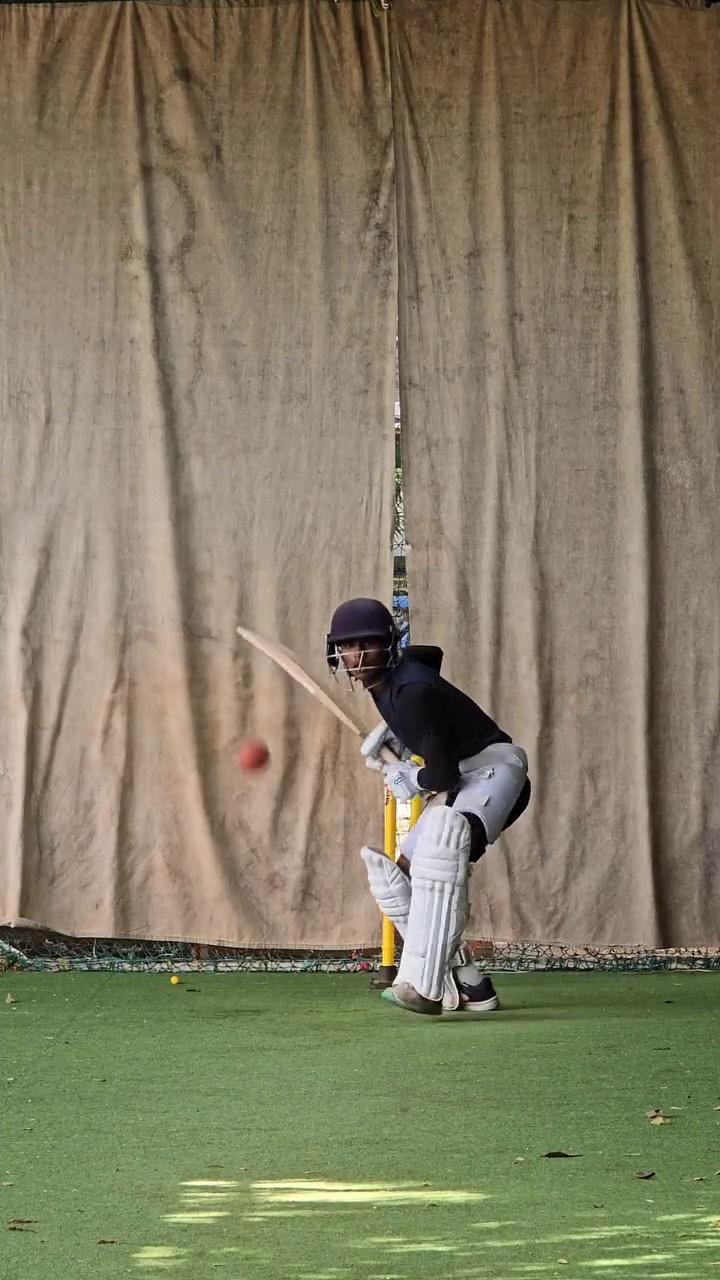bat: (233, 608, 367, 749)
